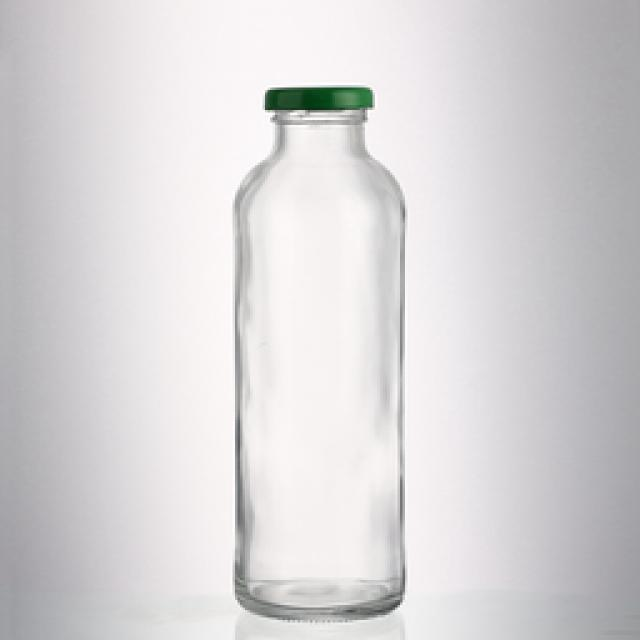glass_beverage_bottles: (228, 82, 417, 620)
